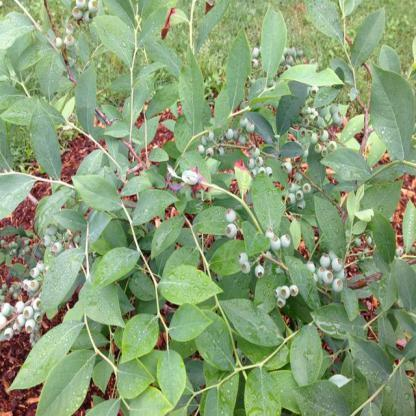Blueberry leaf: (1, 314, 86, 400), (364, 64, 416, 172), (218, 20, 262, 130), (213, 296, 290, 350), (26, 96, 66, 195), (40, 357, 108, 415), (346, 5, 394, 84), (247, 170, 296, 244), (154, 258, 223, 310), (258, 2, 296, 96), (44, 236, 93, 307), (309, 188, 346, 273), (112, 310, 165, 367), (190, 206, 260, 249), (288, 316, 328, 391), (304, 296, 366, 344), (174, 43, 206, 134), (348, 329, 400, 384), (86, 247, 143, 296), (68, 168, 126, 212), (74, 55, 104, 140), (126, 188, 182, 232), (170, 298, 219, 348), (242, 363, 288, 415), (146, 215, 188, 265), (290, 377, 341, 415)
